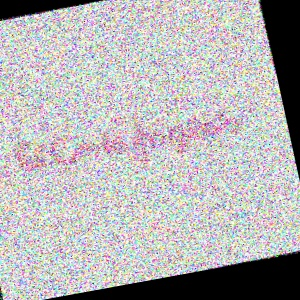corte_ingles: (214, 32, 271, 150)
